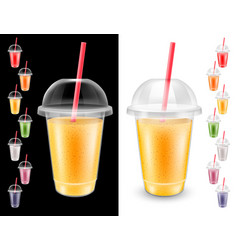plastic_glass: (124, 76, 204, 200), (35, 77, 115, 199), (204, 111, 222, 140), (213, 183, 233, 209), (203, 66, 222, 92), (5, 182, 23, 209), (6, 90, 24, 116), (16, 113, 33, 140), (15, 160, 33, 185), (6, 137, 24, 162), (16, 67, 34, 92), (214, 43, 231, 69), (215, 91, 232, 116), (205, 160, 221, 186), (7, 44, 23, 69), (214, 136, 230, 161)
